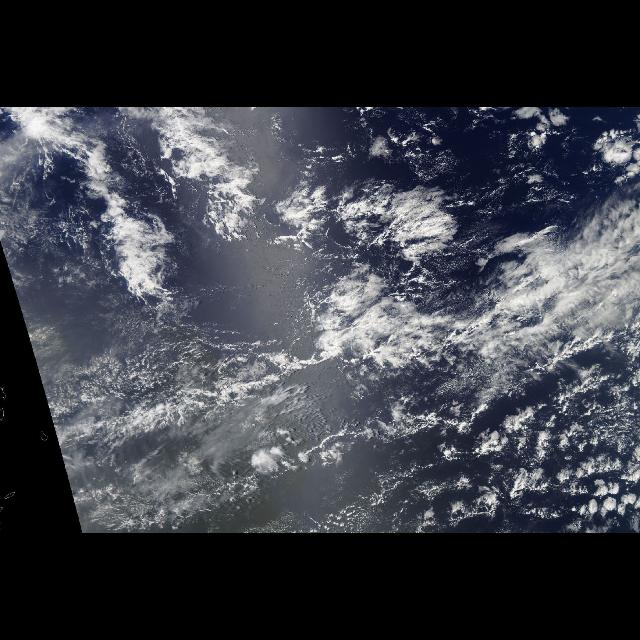Fish: (8, 115, 498, 298)
